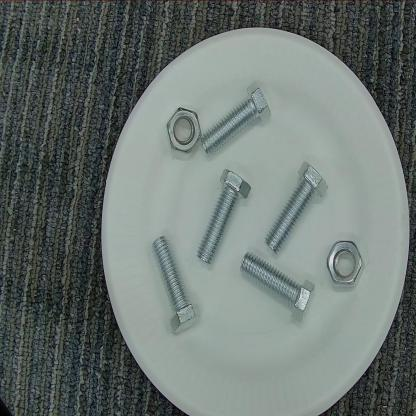FOD: (146, 234, 204, 339), (195, 169, 255, 269), (237, 254, 320, 326), (199, 80, 274, 157), (266, 164, 328, 255), (326, 235, 367, 293), (161, 106, 204, 154)
